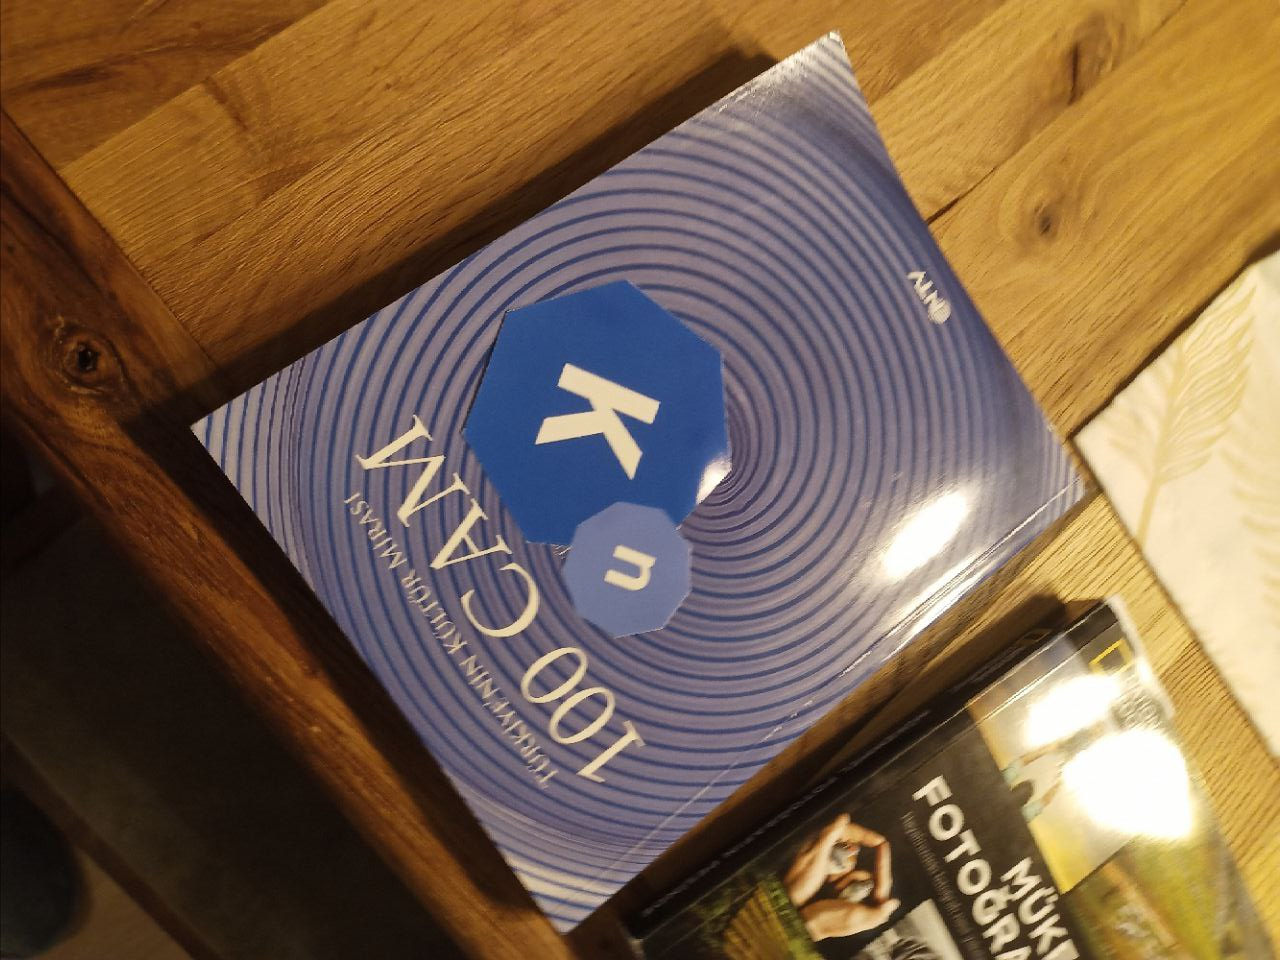knative: (460, 278, 736, 639)
